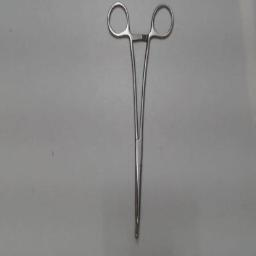Lahey Forceps: (103, 0, 177, 242)
